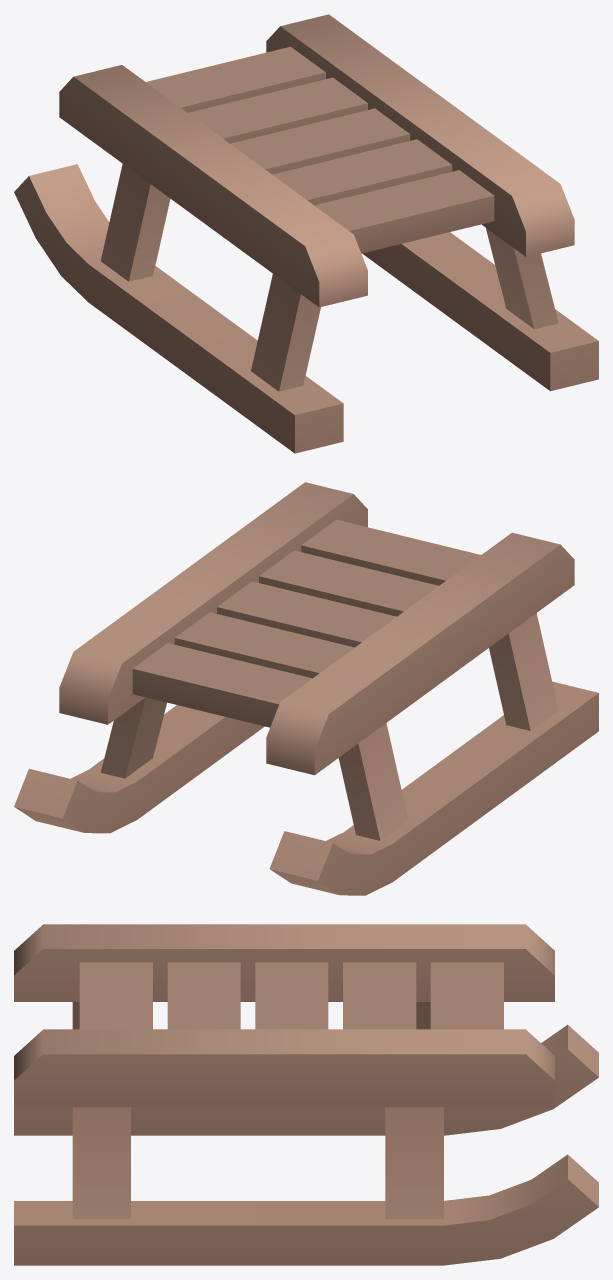
File: sled.glb
3 renders of one model, top to bottom at view 1: azimuth 30°, elevation 25°; view 2: azimuth 150°, elevation 25°; view 3: azimuth 270°, elevation 25°, orthographic. The views are drawn at different scales.
Parts seen in each view (by area): view 1: sled; view 2: sled; view 3: sled.
Part boxes in pixels (x1,y1,x2,y2): sled: [14, 14, 598, 453]; sled: [14, 482, 598, 895]; sled: [14, 924, 598, 1265].
Size of the model in its own units: 0.5031 by 0.3021 by 0.805.
